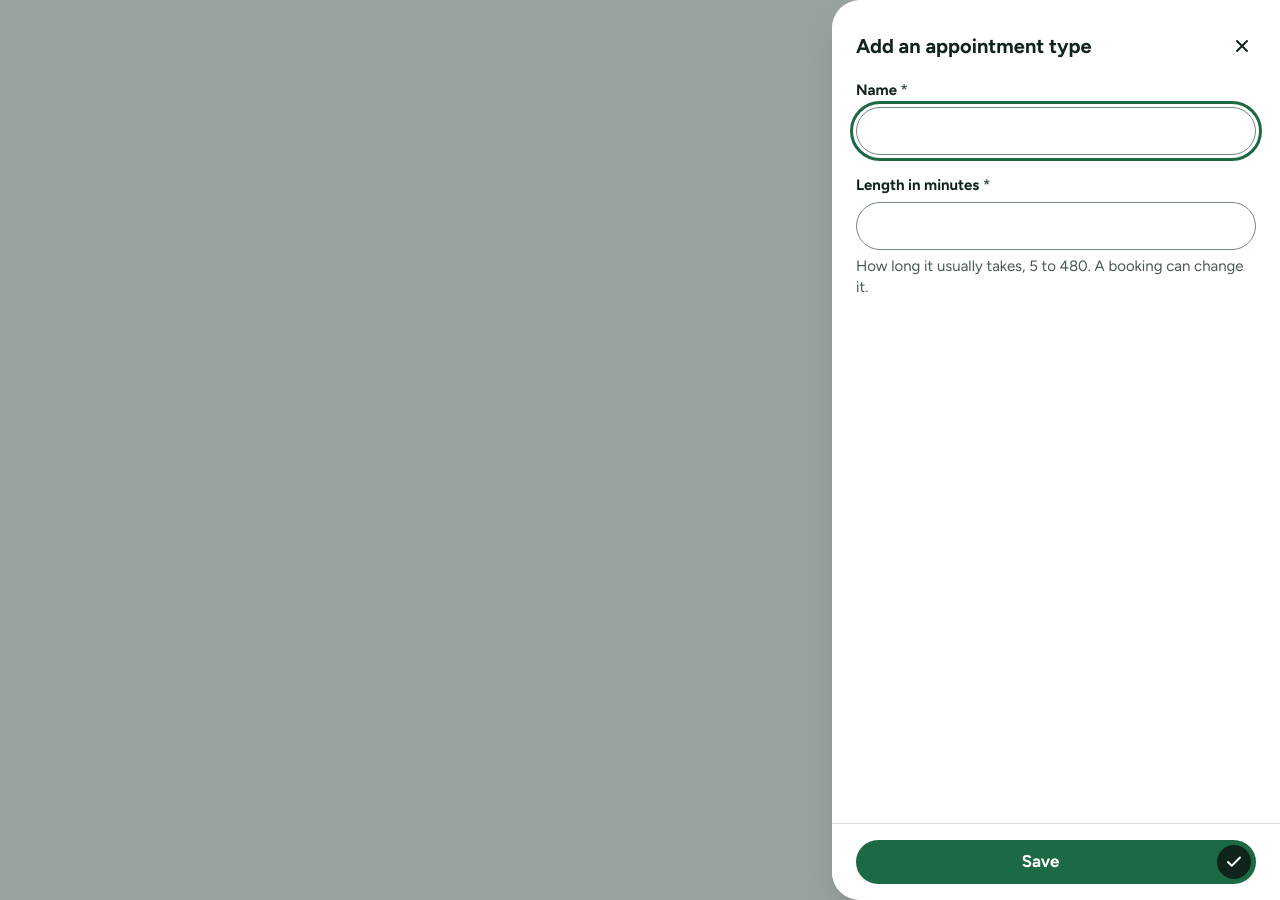
Test case: AppointmentTypeSheet (plan §9, D32) › holds the length to 5 – 480 whole minutes, beside the field
In the field labelled "Name *": (1056,131) [856,107,1256,155], type "Quick look"
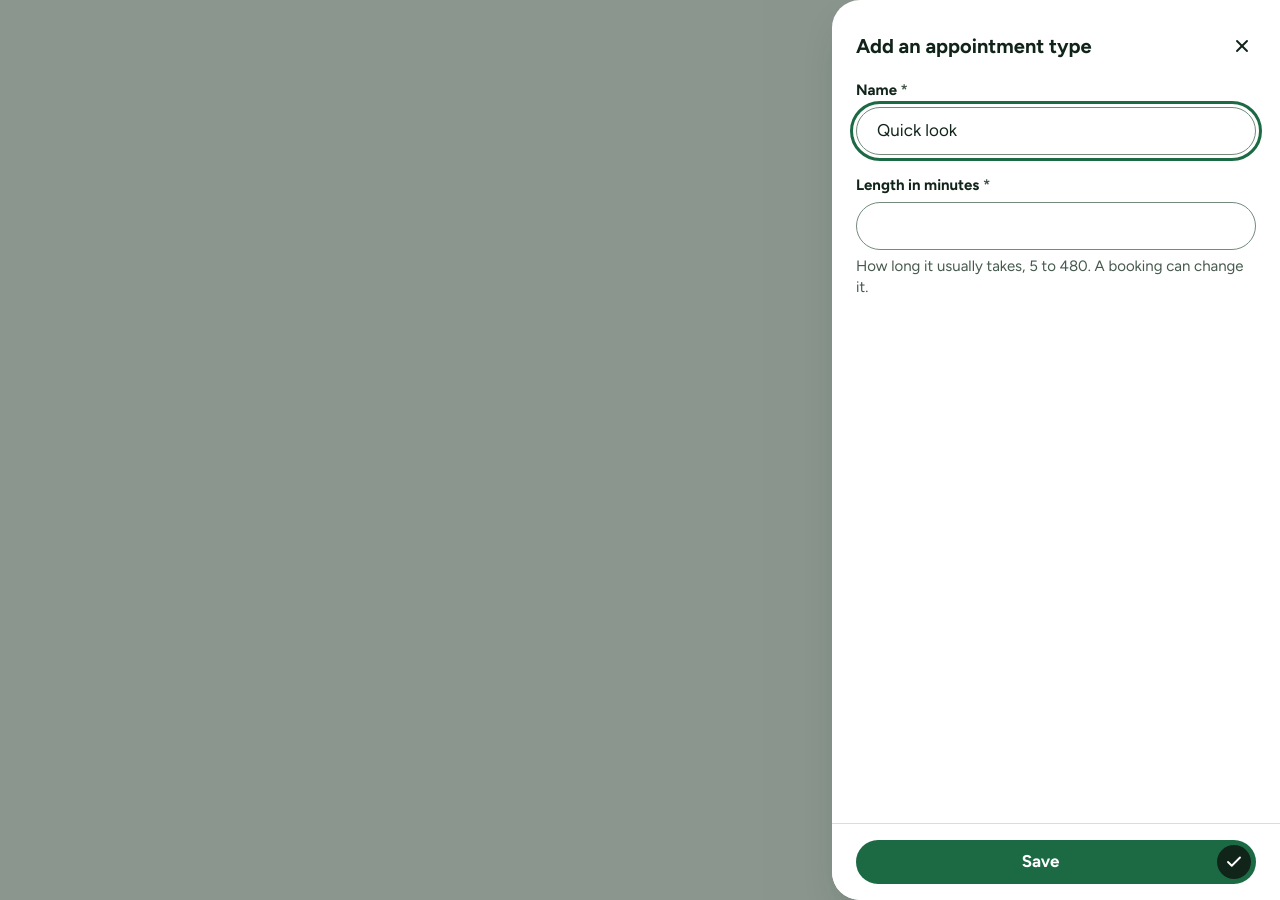
In the field labelled "Length in minutes *": (1056,226) [856,202,1256,250], type "4"
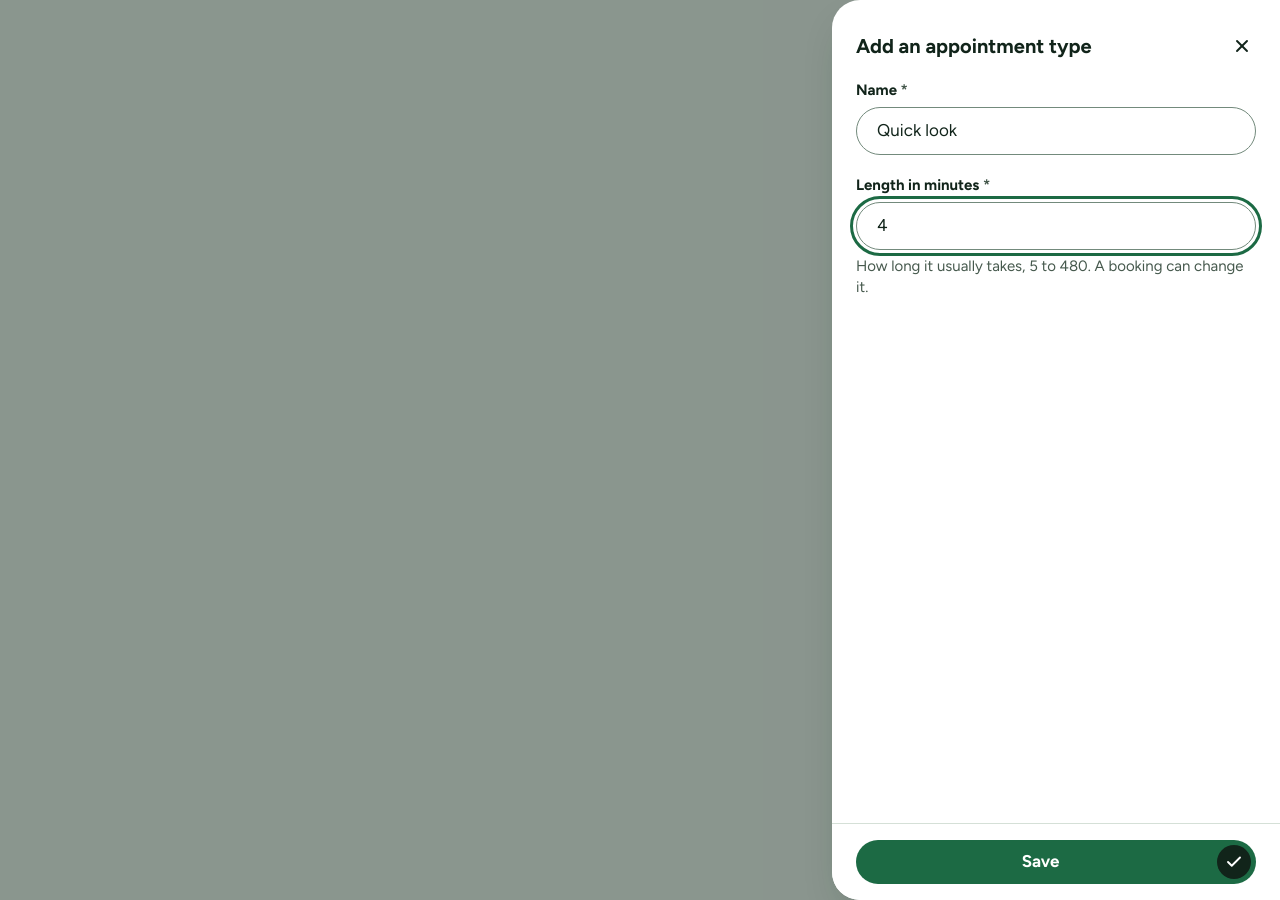
Click the button "Save": (1056,862) [856,840,1256,884]
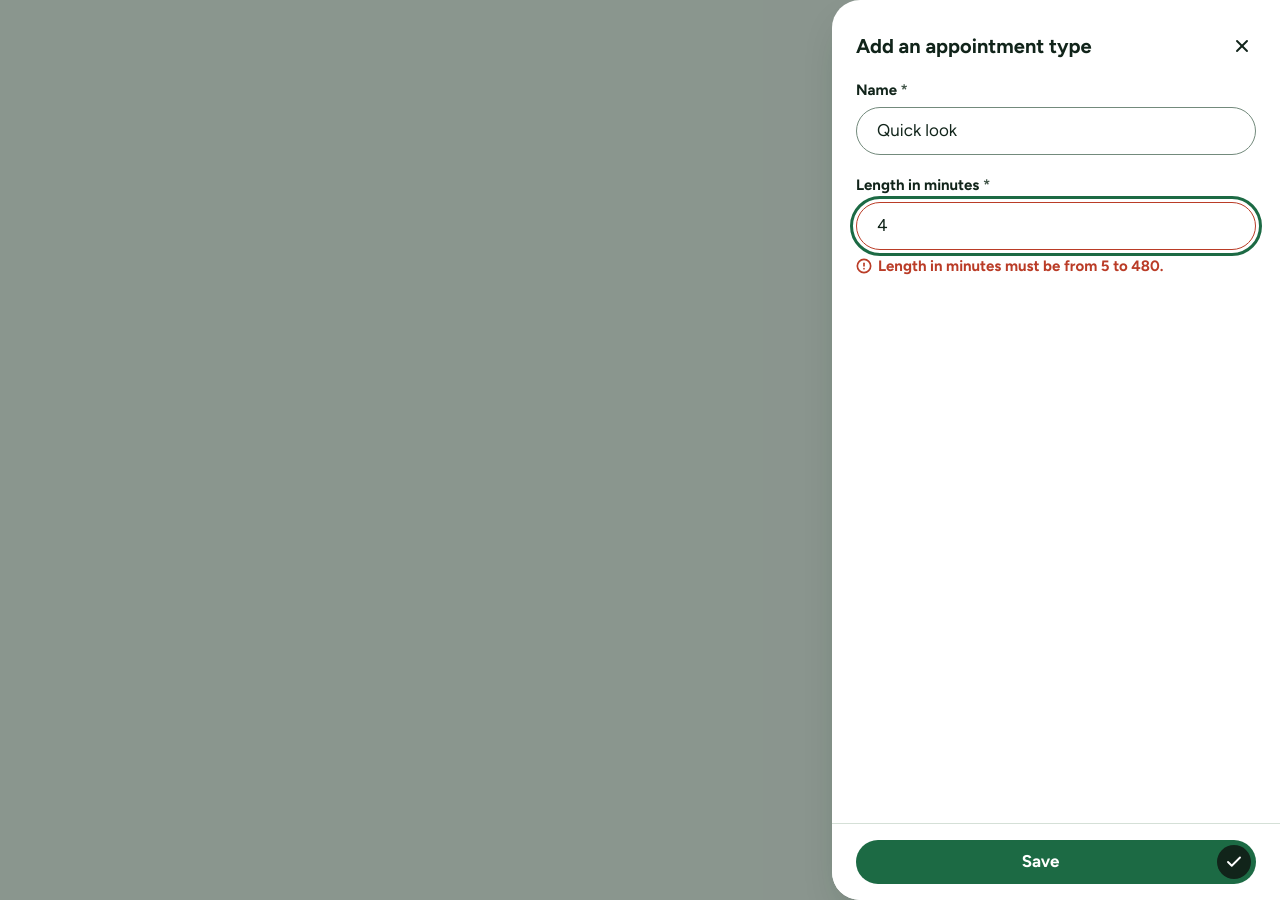
Result: the text "Length in minutes must be from 5 to 480." is shown at [856,257,1163,275]
